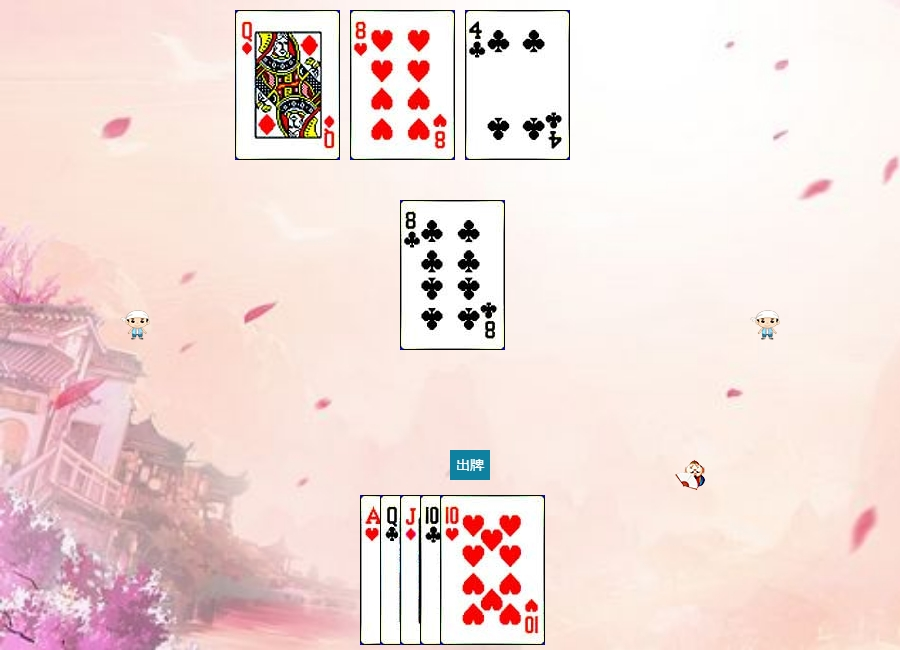10~2: (420, 495, 525, 645)
10~3: (440, 495, 545, 645)
11~1: (400, 495, 505, 645)
12~1: (235, 10, 340, 160)
12~2: (380, 495, 485, 645)
14~3: (360, 495, 465, 645)
4~2: (465, 10, 570, 160)
8~2: (400, 200, 505, 350)
8~3: (350, 10, 455, 160)
